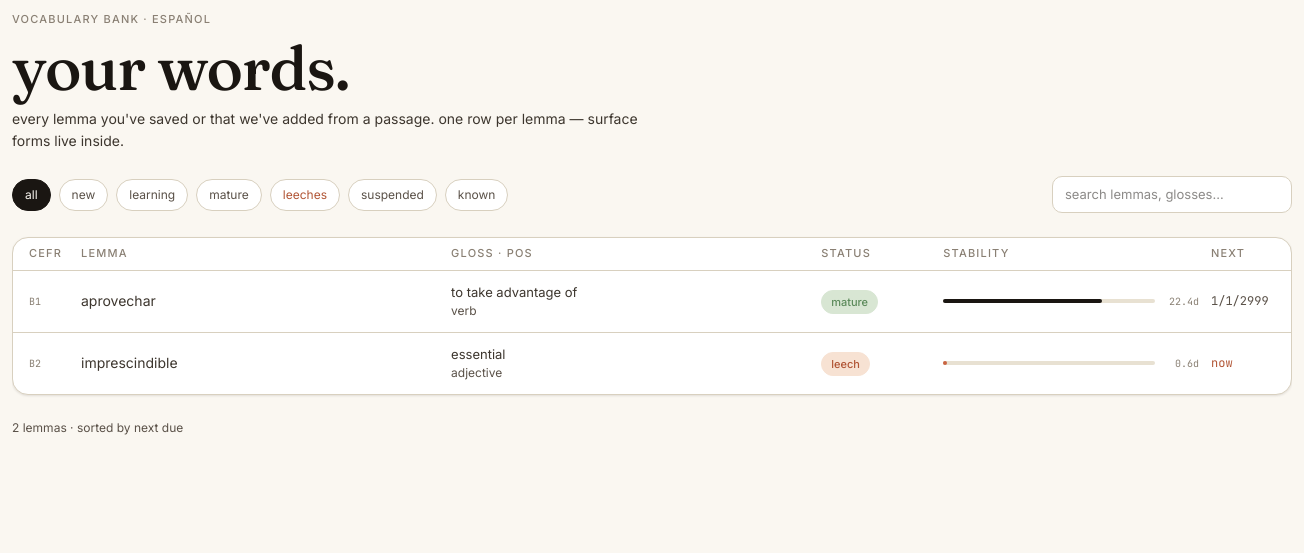
Test: VocabularyBankPage leech surfacing › shows a leech banner when the leech filter is active and rows exist
Check: the text "have lapsed ≥ 3 times" is not shown
Click the button "leeches".
click(305, 195)  # box left=270, top=179, right=340, bottom=211
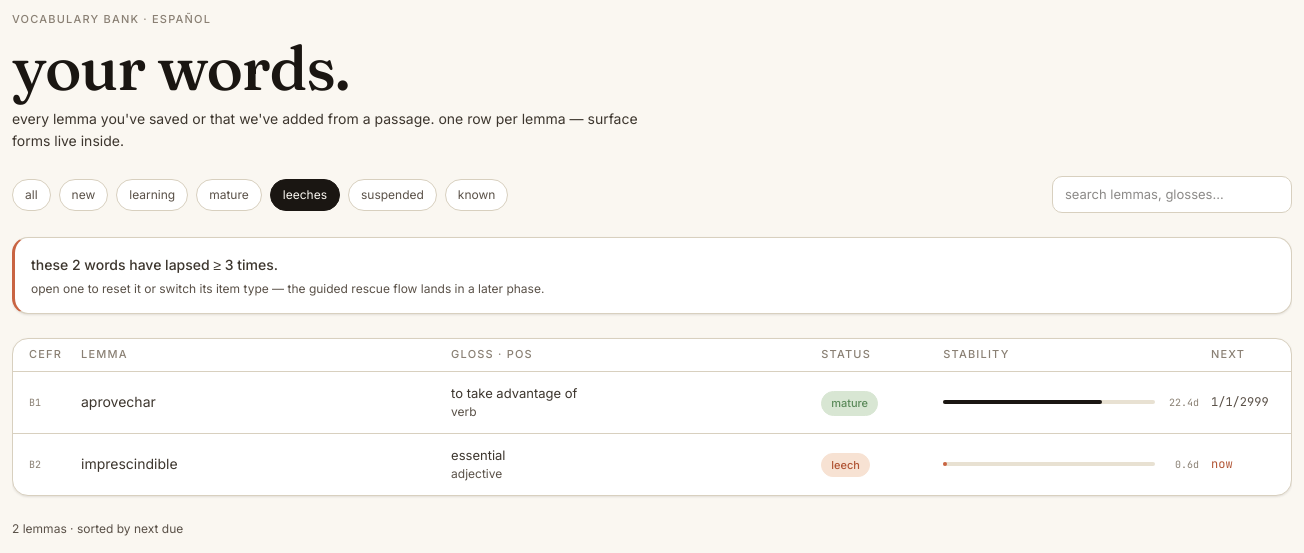
Check: the text "these 2 words have lapsed ≥ 3 times." is shown, box left=31, top=256, right=278, bottom=273
